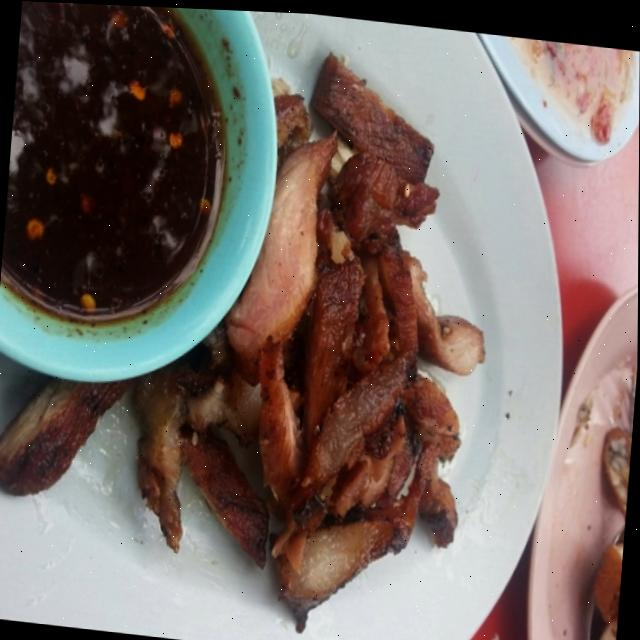猪肉菜式: (0, 0, 579, 639)
